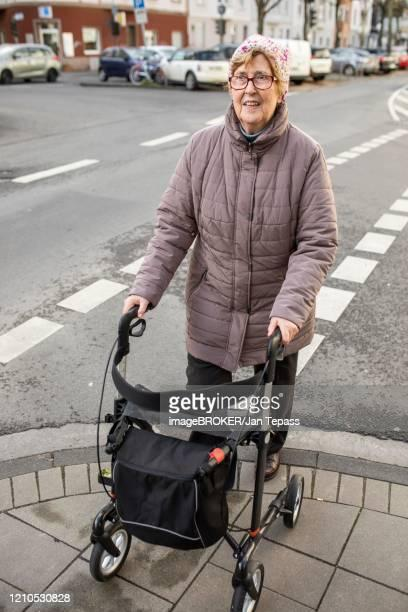walking_frame: (89, 34, 338, 612)
